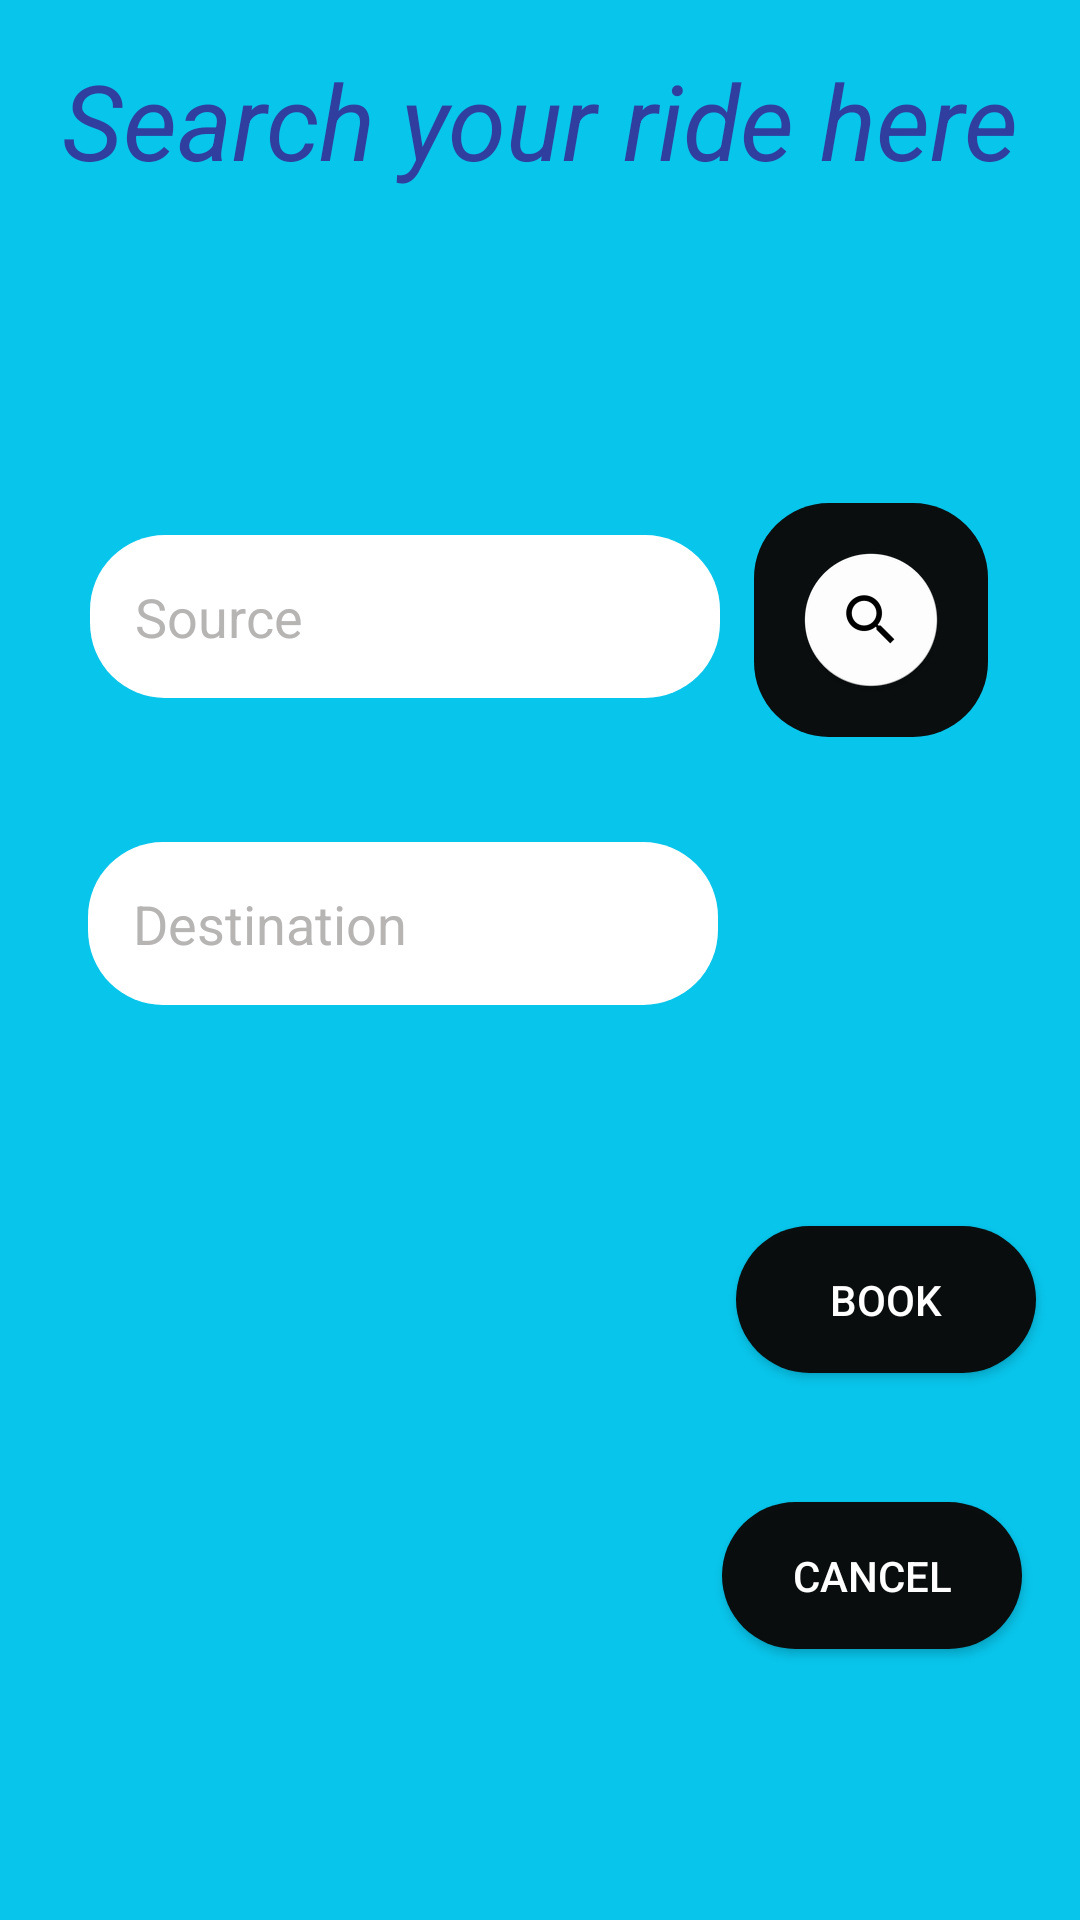

Named icons in this screenshot (1080×1920) and their bounding boxes, (x1, y1, x2, y2):
search: (754, 503, 988, 737)
